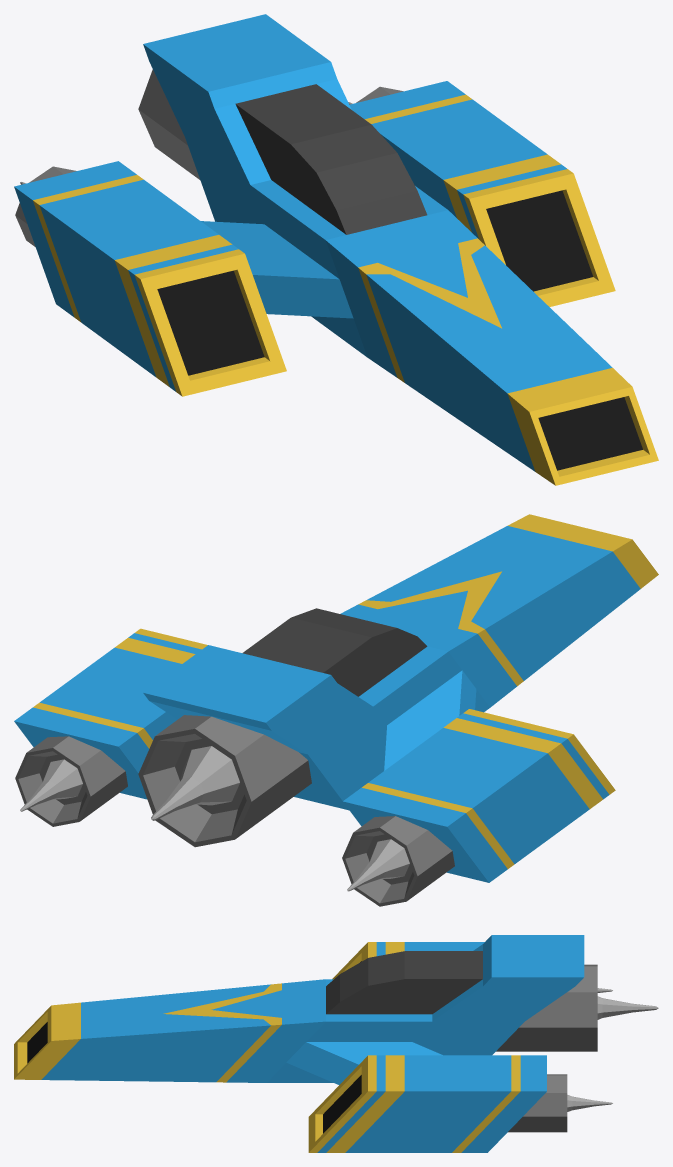
Rendered from ship.fbx.
3 views of the same model, one above another, from view 1: azimuth 30°, elevation 25°; view 2: azimuth 150°, elevation 25°; view 3: azimuth 270°, elevation 25° (orthographic). The views are drawn at different scales.
Parts seen in each view (by area): view 1: Ship; view 2: Ship; view 3: Ship.
Part boxes in pixels (x1,y1,x2,y2): Ship: (14,14,658,485); Ship: (14,514,658,906); Ship: (14,935,658,1152).
Bounding box in the file's own units: 862 × 328 × 1571.
